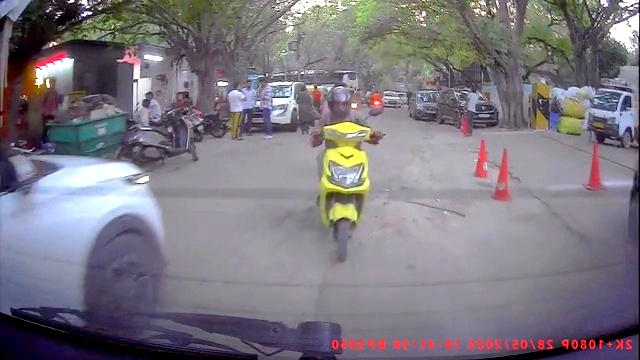motorcycle_with_helmet: (310, 81, 384, 264)
